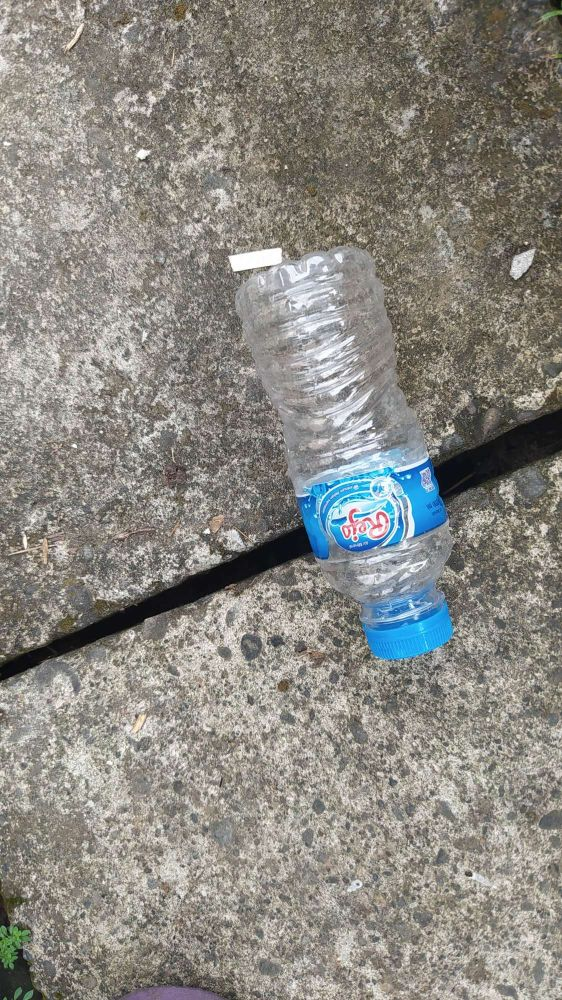botol: (182, 230, 483, 671)
